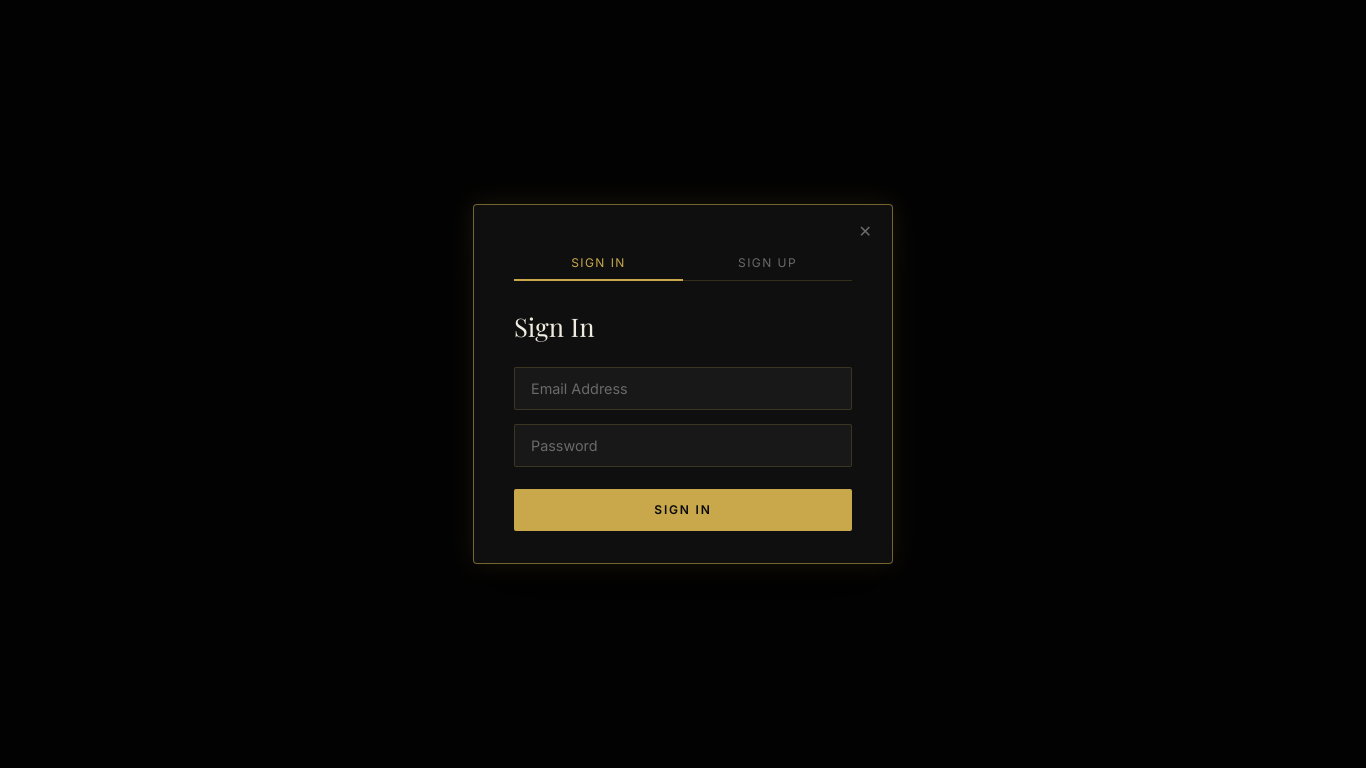
it: AuthModal › shows error message for invalid login credentials
Type "nobody@x.com" into the field with placeholder "Email Address" at (683, 389), box top-left (514, 367), bottom-right (852, 410)
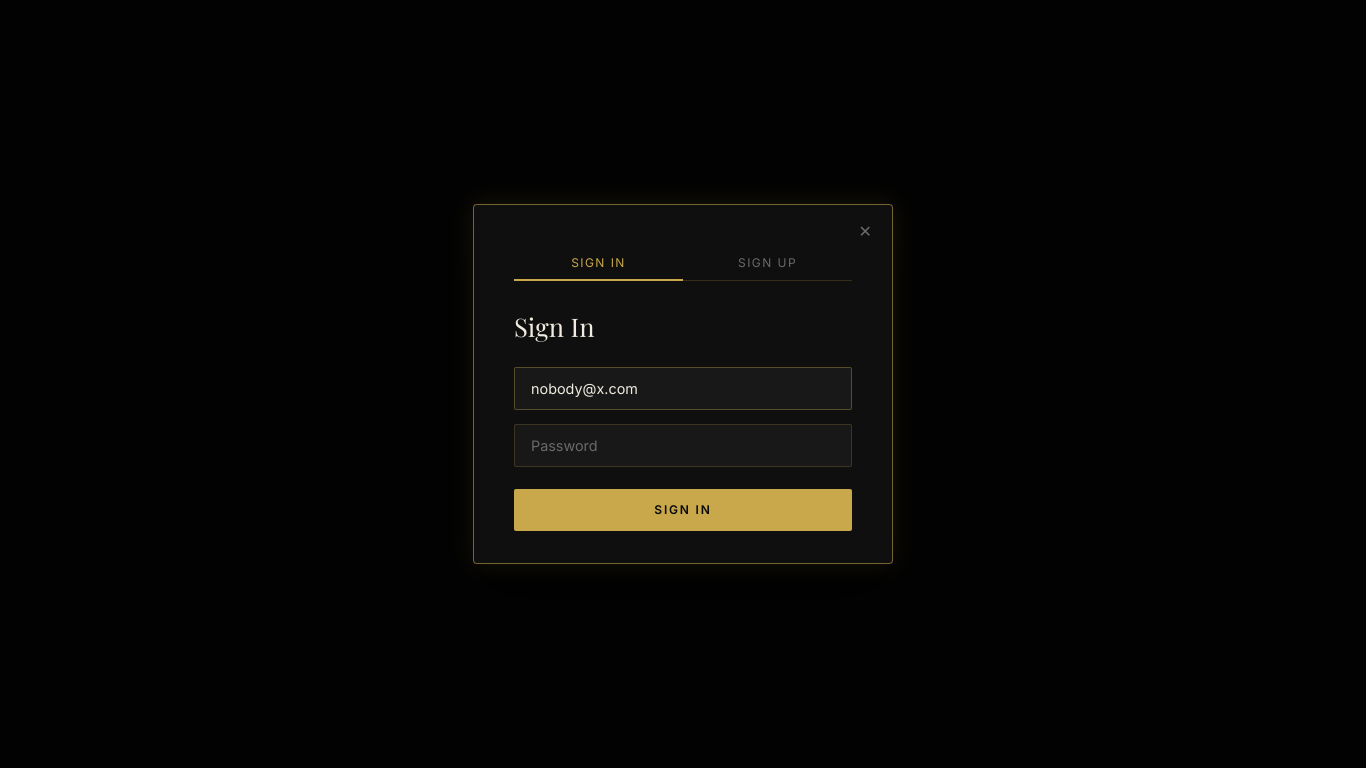
Type "wrong" into the password field with placeholder "Password" at (683, 446), box top-left (514, 424), bottom-right (852, 467)
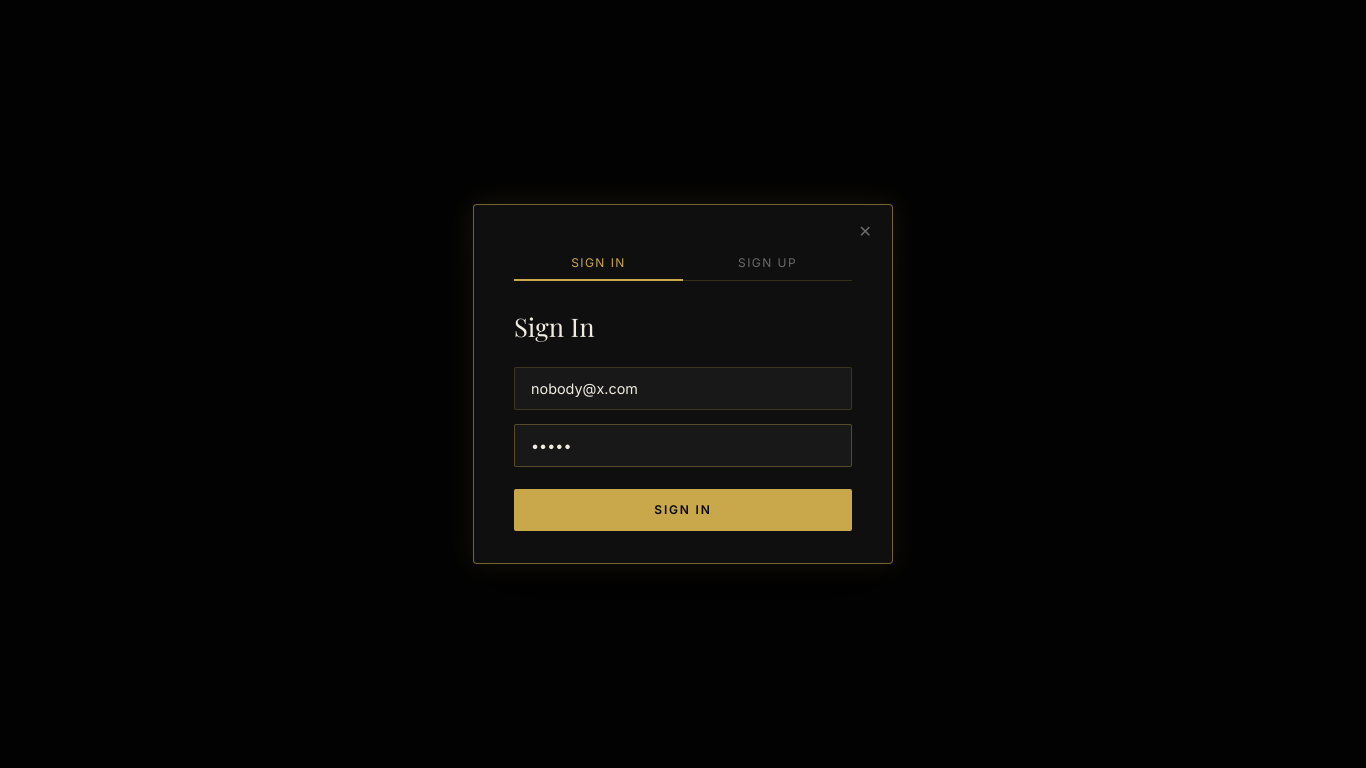
Click the button with test id "modal-submit" at (683, 510), box top-left (514, 489), bottom-right (852, 531)
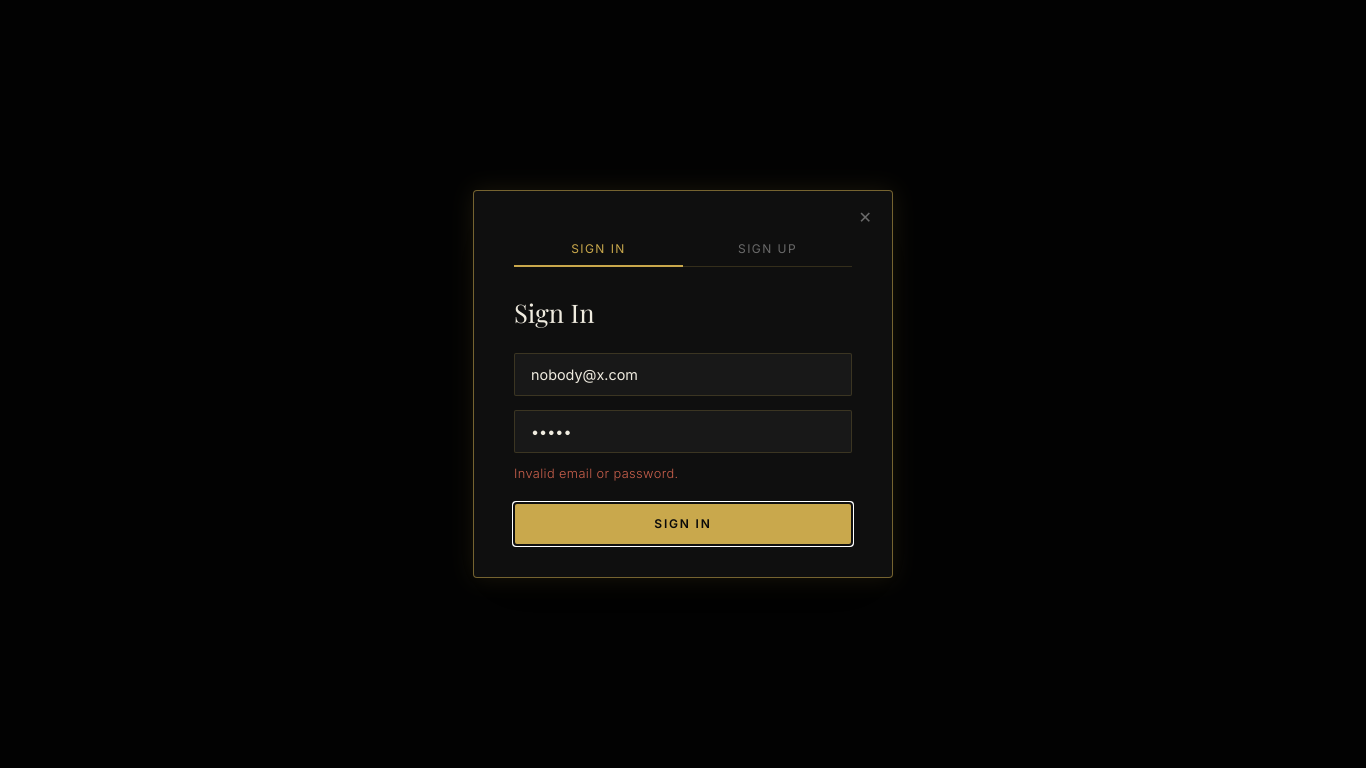
Now the text "Invalid email or password." is shown, box top-left (514, 466), bottom-right (678, 481)
